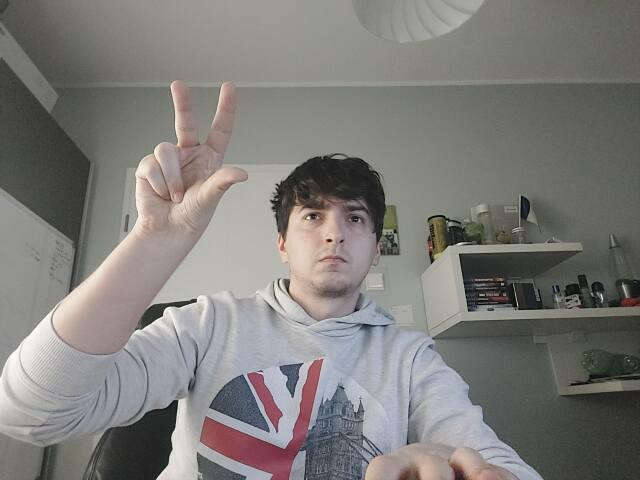no: (134, 80, 249, 226)
